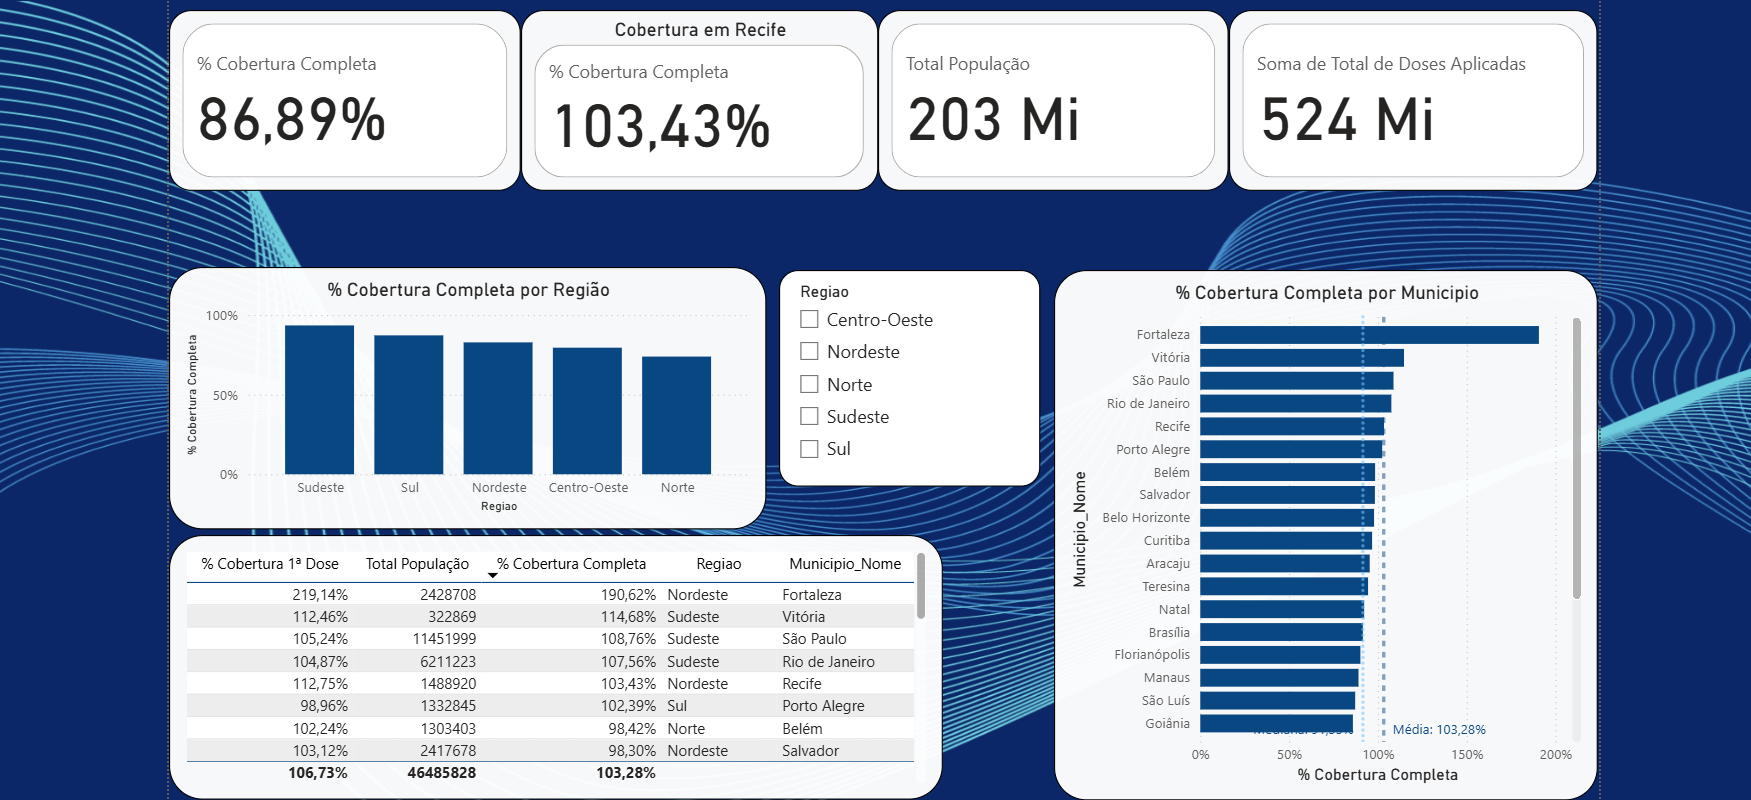

Layout of this report page (visuals, bound fields, positions):
{"tool":"powerbi","page":{"name":"Página 1","canvas":[1280,720],"ordinal":0},"visuals":[{"type":"tableEx","fields":{"Values":["vacinometro_pronto_powerbi.% Cobertura 1ª Dose","ibge_reg_pronto_powerbi.Total População","vacinometro_pronto_powerbi.% Cobertura Completa","ibge_reg_pronto_powerbi.Regiao","ibge_reg_pronto_powerbi.Municipio_Nome"]},"box":[0,482.7,693.1,237.3],"z":0},{"type":"barChart","title":"% Cobertura Completa por Municipio","fields":{"Category":["ibge_reg_pronto_powerbi.Municipio_Nome"],"Y":["vacinometro_pronto_powerbi.% Cobertura Completa"]},"box":[792.5,245.4,487.2,474.6],"z":1000},{"type":"slicer","fields":{"Values":["ibge_reg_pronto_powerbi.Regiao"]},"box":[546.3,245.4,233.7,194.3],"z":2000},{"type":"columnChart","title":"% Cobertura Completa por Região","fields":{"Category":["ibge_reg_pronto_powerbi.Regiao"],"Y":["vacinometro_pronto_powerbi.% Cobertura Completa"]},"box":[0,242.7,534.6,234.6],"z":3000},{"type":"cardVisual","fields":{"Data":["vacinometro_pronto_powerbi.% Cobertura Completa"]},"box":[0,12.5,315.2,162.1],"z":4000},{"type":"cardVisual","title":"Cobertura em Recife","fields":{"Data":["vacinometro_pronto_powerbi.% Cobertura Completa"]},"box":[315.2,12.5,319.7,162.1],"z":5000},{"type":"cardVisual","fields":{"Data":["ibge_reg_pronto_powerbi.Total População"]},"box":[634.9,12.5,314.3,162.1],"z":6000},{"type":"cardVisual","fields":{"Data":["Sum(vacinometro_pronto_powerbi.Total de Doses Aplicadas)"]},"box":[949.3,12.5,330.4,162.1],"z":7000}]}

Visuals, with their boxes on the page's 1280x720 design canvas (x1, y1, x2, y2). These are canvas units, not pixel positions in the 1751x800 screenshot, which may show the page scaled, cropped or inside an application window:
tableEx - vacinometro_pronto_powerbi.% Cobertura 1ª Dose x ibge_reg_pronto_powerbi.Total População: l=0, t=483, r=693, b=720
"% Cobertura Completa por Municipio" barChart: l=792, t=245, r=1280, b=720
slicer - ibge_reg_pronto_powerbi.Regiao: l=546, t=245, r=780, b=440
"% Cobertura Completa por Região" columnChart: l=0, t=243, r=535, b=477
cardVisual - vacinometro_pronto_powerbi.% Cobertura Completa: l=0, t=12, r=315, b=175
"Cobertura em Recife" cardVisual: l=315, t=12, r=635, b=175
cardVisual - ibge_reg_pronto_powerbi.Total População: l=635, t=12, r=949, b=175
cardVisual - Sum(vacinometro_pronto_powerbi.Total de Doses Aplicadas): l=949, t=12, r=1280, b=175
